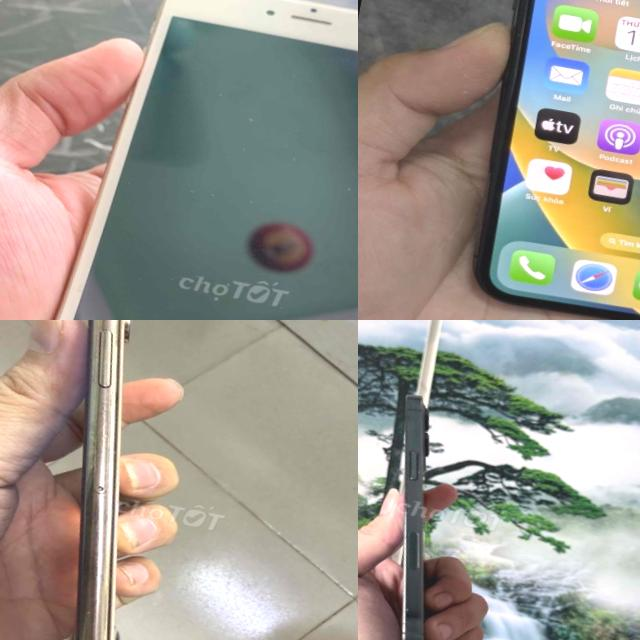gen_12_13: (358, 385, 494, 640)
gen_6: (15, 0, 358, 320)
gen_x_xs: (446, 0, 640, 320), (76, 320, 130, 640)
